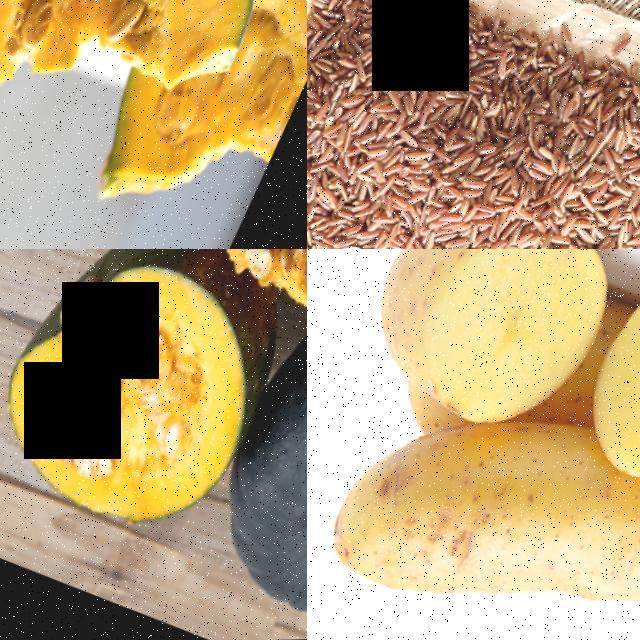potato: (309, 384, 640, 640), (336, 249, 640, 454), (563, 249, 640, 533)
pumpkin: (0, 249, 307, 559), (0, 0, 307, 171), (190, 314, 307, 640)
red rice: (307, 0, 520, 249), (396, 45, 640, 249)
